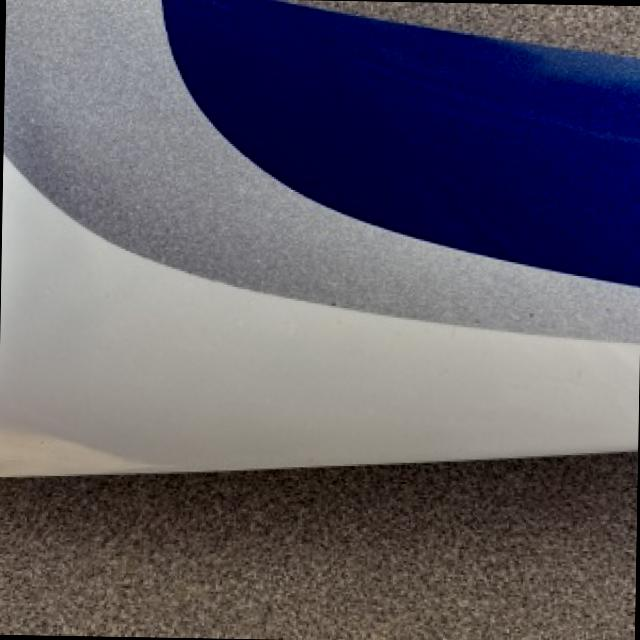healthy: (0, 0, 640, 472)
